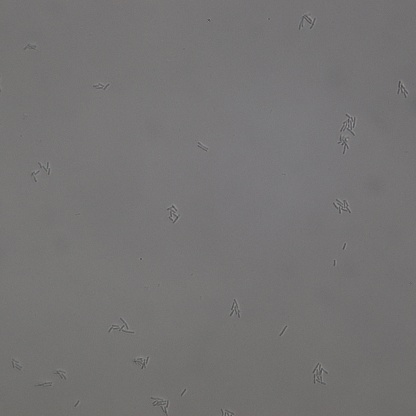R(colony): (108, 317, 136, 333), (311, 363, 328, 387), (30, 162, 50, 182), (150, 395, 168, 416), (340, 113, 357, 133), (164, 204, 180, 225), (299, 11, 317, 29), (332, 198, 351, 215), (228, 299, 242, 318), (133, 355, 150, 369), (339, 135, 351, 153), (396, 81, 408, 97), (93, 82, 110, 92), (11, 358, 23, 372), (54, 369, 67, 381)
